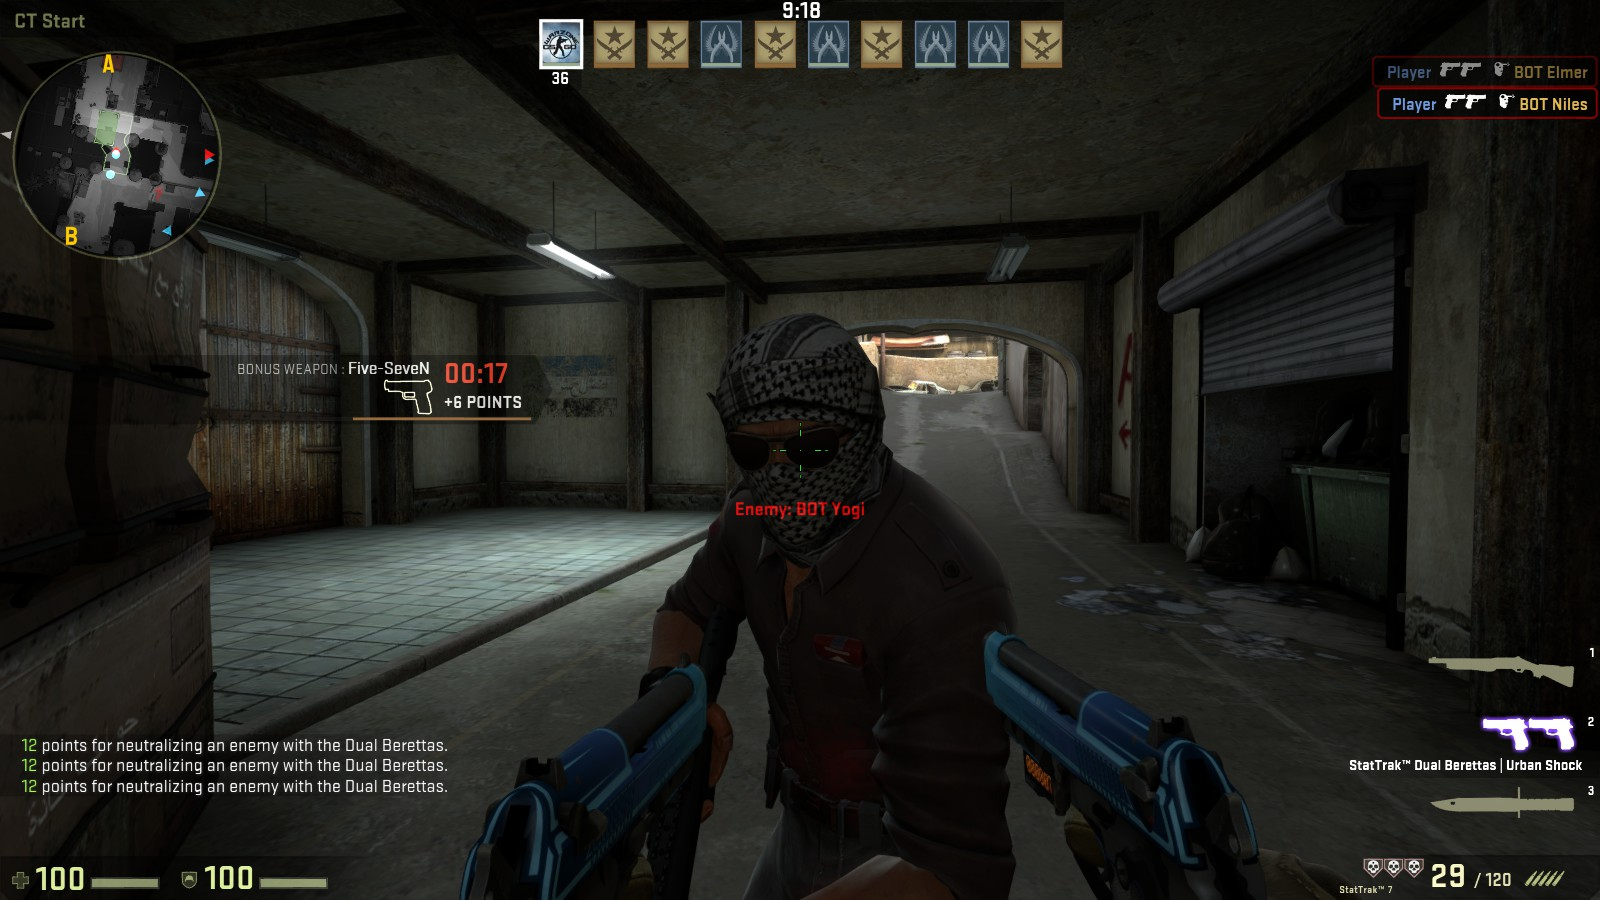t: (651, 298, 1003, 900)
th: (702, 305, 902, 565)
